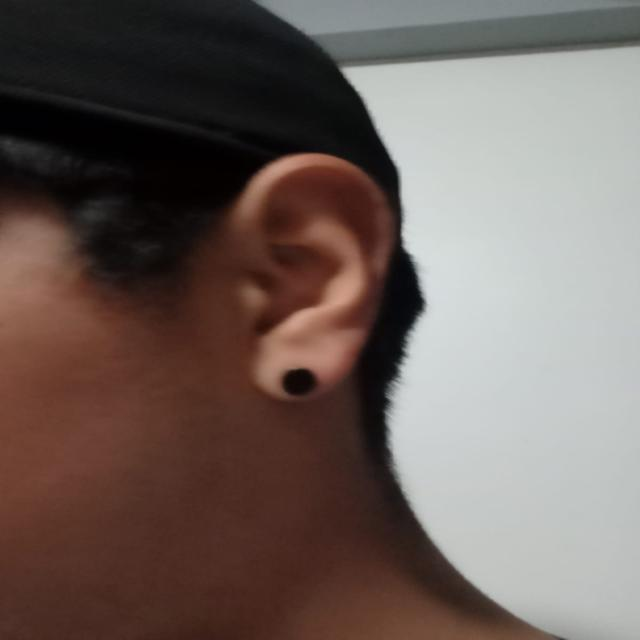ear: (203, 154, 395, 401)
